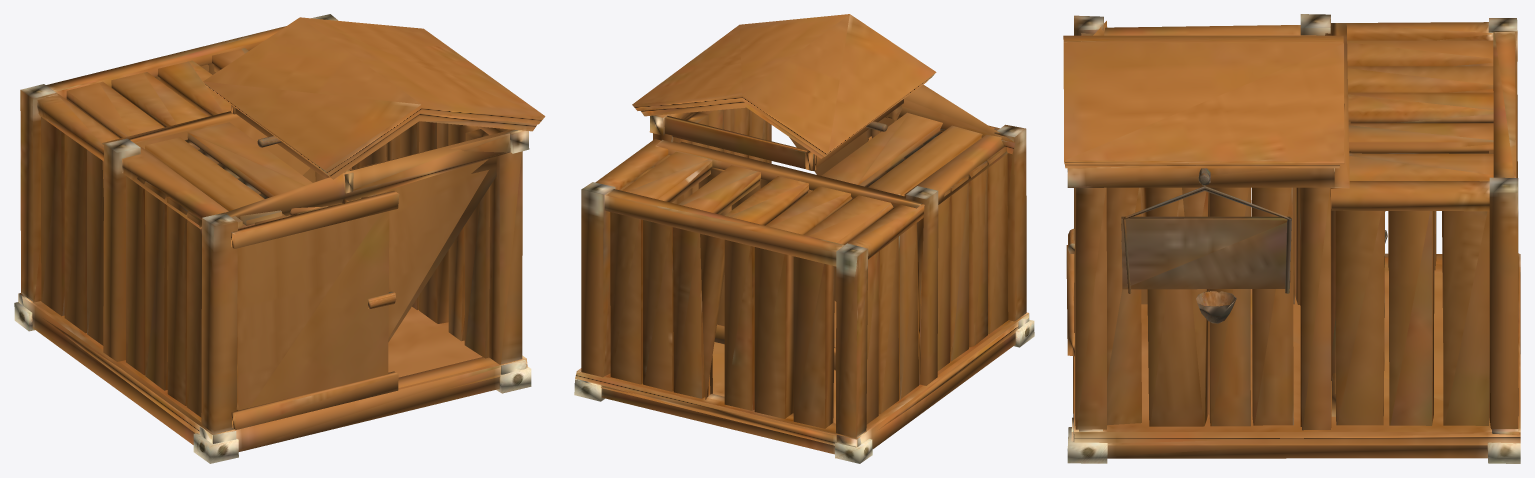
Rendered from compost-bin.glb.
The picture shows the model from 3 angles, left to right: view 1: azimuth 30°, elevation 25°; view 2: azimuth 150°, elevation 25°; view 3: azimuth 270°, elevation 25°; orthographic projection. The views are drawn at different scales.
Parts seen in each view (by area): view 1: compost-bin; view 2: compost-bin; view 3: compost-bin.
Boxes of the visible parts, bbox=[...] form: compost-bin: bbox=[14, 14, 545, 463]; compost-bin: bbox=[574, 14, 1034, 463]; compost-bin: bbox=[1063, 14, 1520, 463].
Bounding box in the file's own units: 0.9815 × 0.868 × 1.
1 material, 1 textured.
